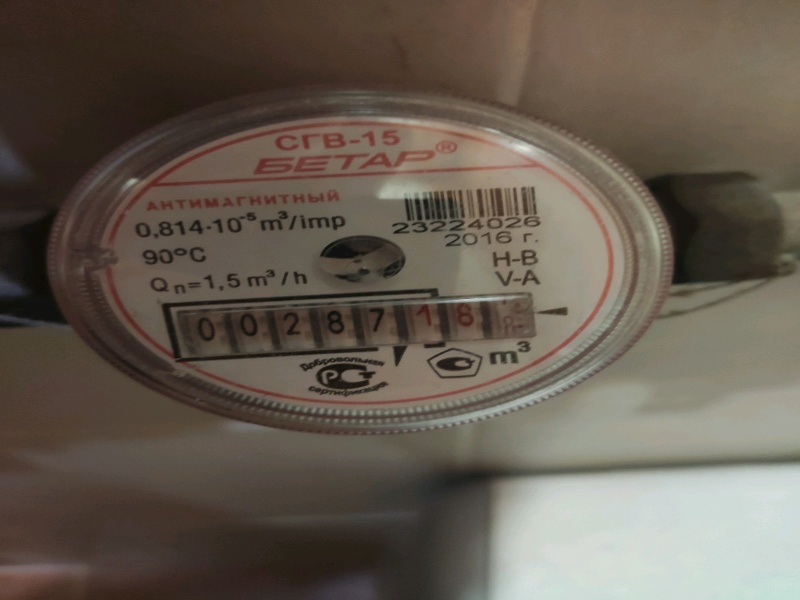meter: (176, 299, 533, 341)
